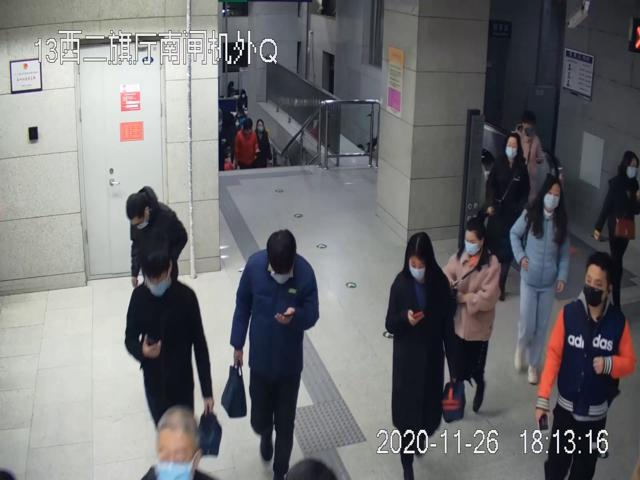person: (537, 250, 635, 480), (230, 230, 320, 480), (385, 232, 455, 480), (124, 248, 214, 423), (508, 173, 571, 385), (443, 216, 501, 412), (487, 131, 528, 298)
